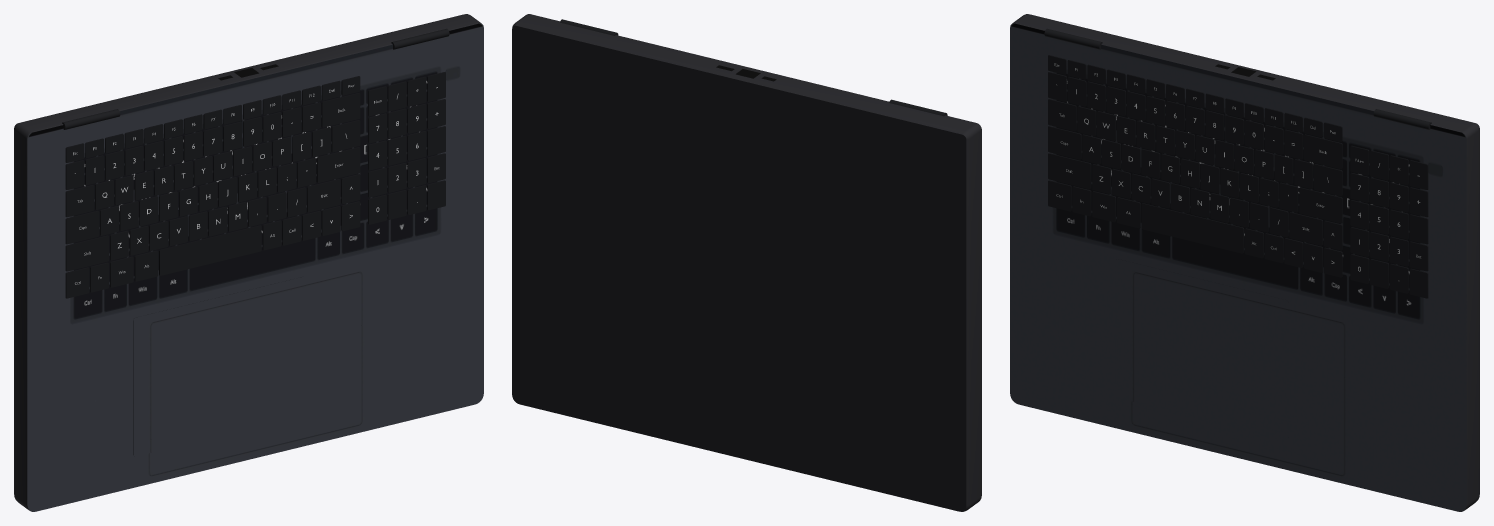
File: body.obj
The picture shows the model from 3 angles, left to right: view 1: azimuth 30°, elevation 25°; view 2: azimuth 150°, elevation 25°; view 3: azimuth 330°, elevation 25°; orthographic projection.
Visible parts, largest first — view 1: deck, keys.001, base, keys, legend, hinge; view 2: base.001, base; view 3: deck, keys.001, base, keys, legend, hinge.
Part boxes in pixels (bbox=[...]): deck: bbox=[27, 23, 483, 511]; keys.001: bbox=[66, 72, 445, 298]; base: bbox=[14, 14, 483, 511]; keys: bbox=[65, 72, 445, 298]; legend: bbox=[73, 85, 439, 284]; hinge: bbox=[62, 28, 449, 129]; base.001: bbox=[512, 25, 966, 511]; base: bbox=[512, 14, 981, 511]; deck: bbox=[1010, 23, 1466, 511]; keys.001: bbox=[1048, 55, 1427, 298]; base: bbox=[1010, 14, 1479, 511]; keys: bbox=[1048, 55, 1428, 297]; legend: bbox=[1054, 63, 1420, 280]; hinge: bbox=[1044, 28, 1431, 129].
Size of the model in its own units: 402 by 322 by 24.75.
